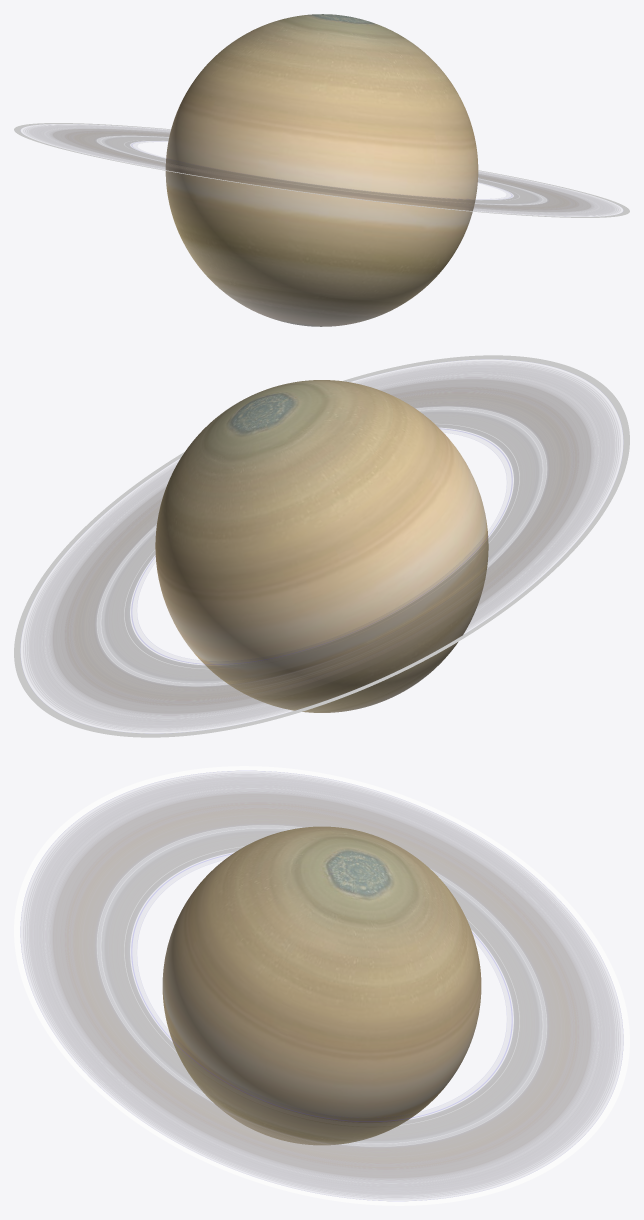
The model's file is saturn.glb.
The picture shows the model from 3 angles, top to bottom: view 1: azimuth 30°, elevation 25°; view 2: azimuth 150°, elevation 25°; view 3: azimuth 270°, elevation 25°; orthographic projection. The views are drawn at different scales.
Parts seen in each view (by area): view 1: Sphere, Circle; view 2: Sphere, Circle; view 3: Circle, Sphere.
Part boxes in pixels (x1,y1,x2,y2): Sphere: [165, 14, 478, 326]; Circle: [14, 123, 629, 217]; Sphere: [155, 380, 488, 712]; Circle: [14, 355, 629, 737]; Circle: [14, 766, 629, 1205]; Sphere: [162, 826, 481, 1145].
Bounding box in the file's own units: 3.81 × 2 × 3.86.
2 materials, 2 textured.
